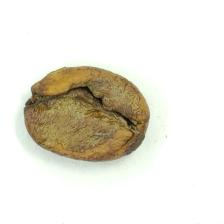NG: (26, 75, 136, 156)
